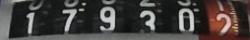digits: (17, 0, 42, 40), (136, 0, 158, 40), (211, 0, 231, 40), (57, 0, 77, 39), (99, 6, 115, 30), (177, 8, 194, 29)
